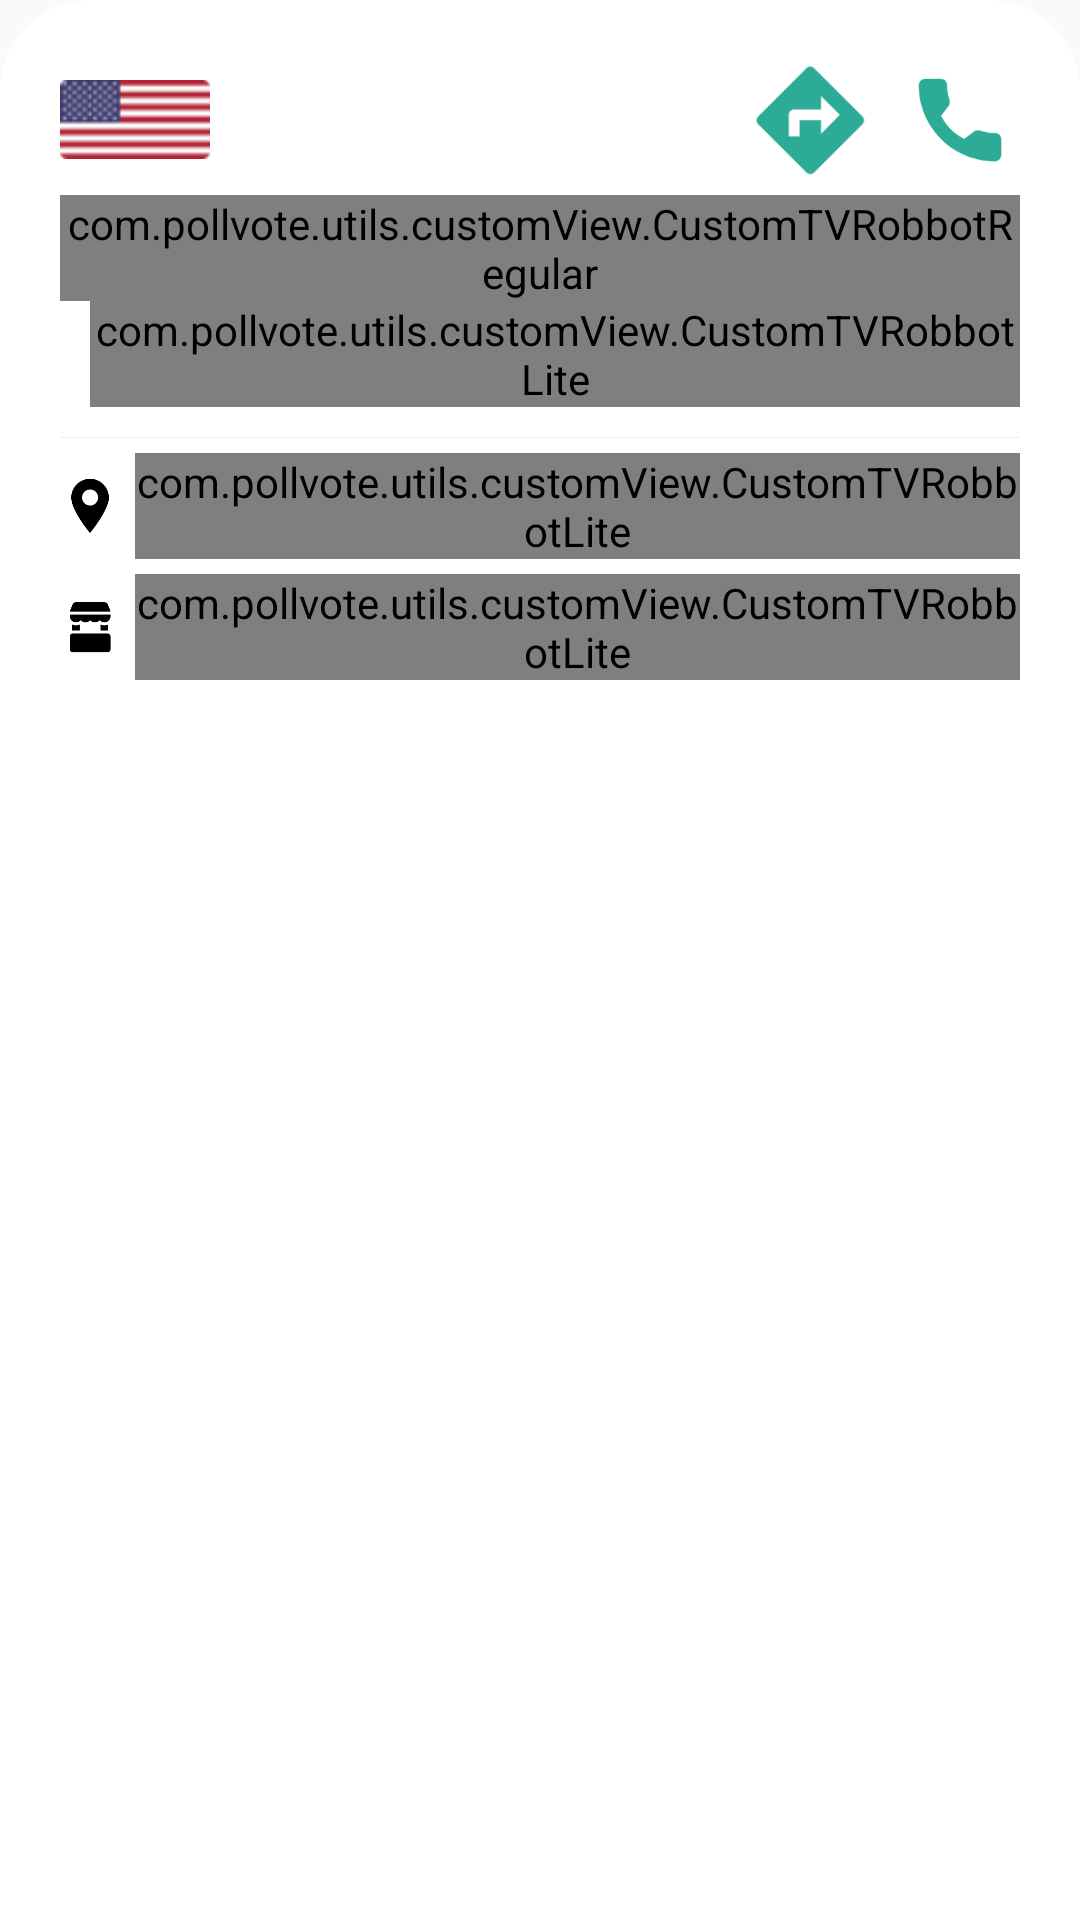

Icons on this 1080 x 1920 Android screen, each with its box as rect(x1, y1, x2, y2):
booth: rect(70, 602, 111, 653)
call: rect(918, 78, 1002, 162)
country flag: rect(60, 80, 210, 159)
loc: rect(71, 479, 109, 533)
